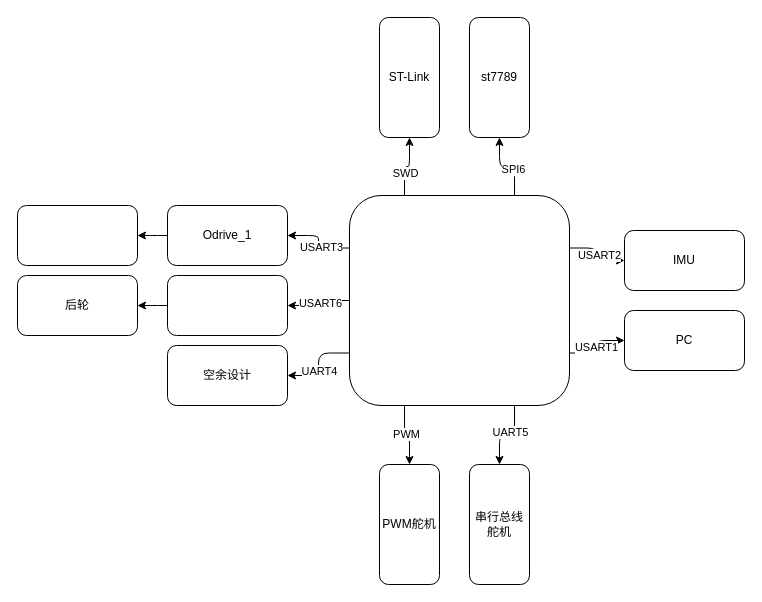
Some shapes in this 762 by 602 pixel diagram are drawn without their labels. Here are the shapes that lost their labels. From the top down, the centre of each, then its label:
At point (77, 235): "动量轮".
At point (227, 305): "Odrive_2".
At point (459, 300): "STM32H743VIH6".
